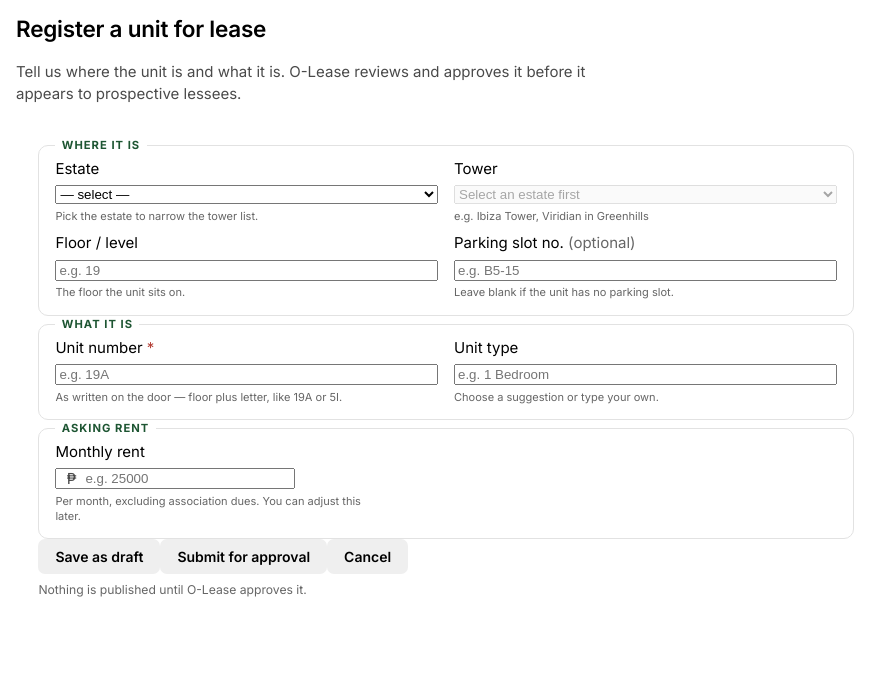
Test: RegisterUnitView › shows the server's message when submission fails
Type "19A" into the field with id "unitNumber" at [247, 374], box [55, 364, 438, 385]
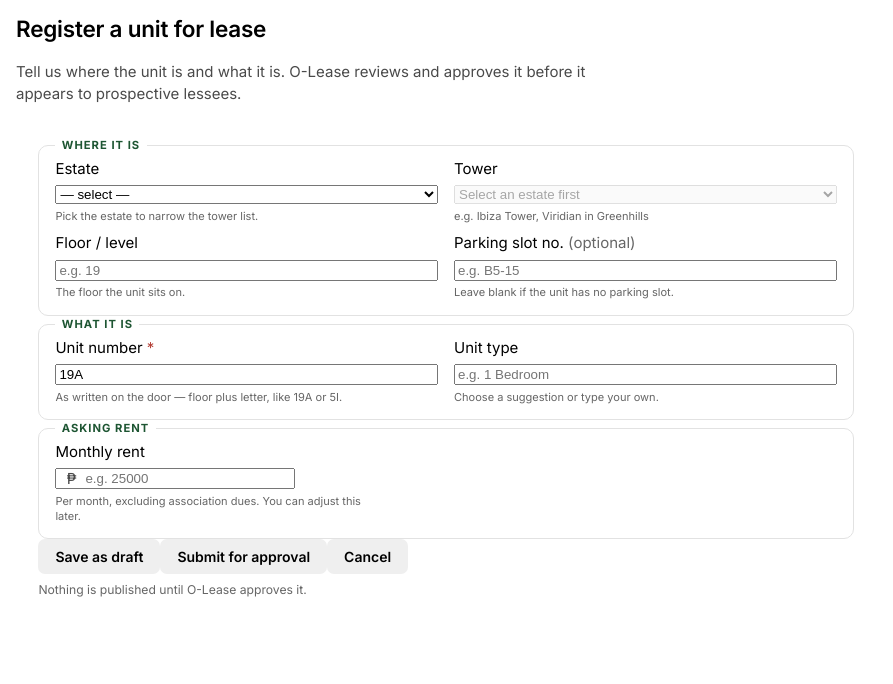
Submit the form
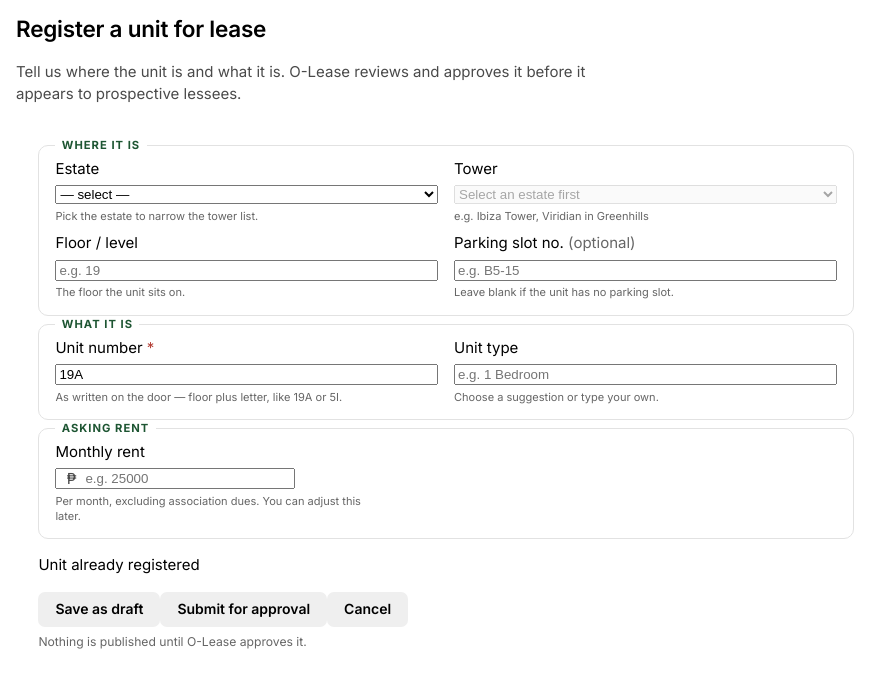
Check: the text with class "error" reads "Unit already registered", box [38, 555, 200, 574]
